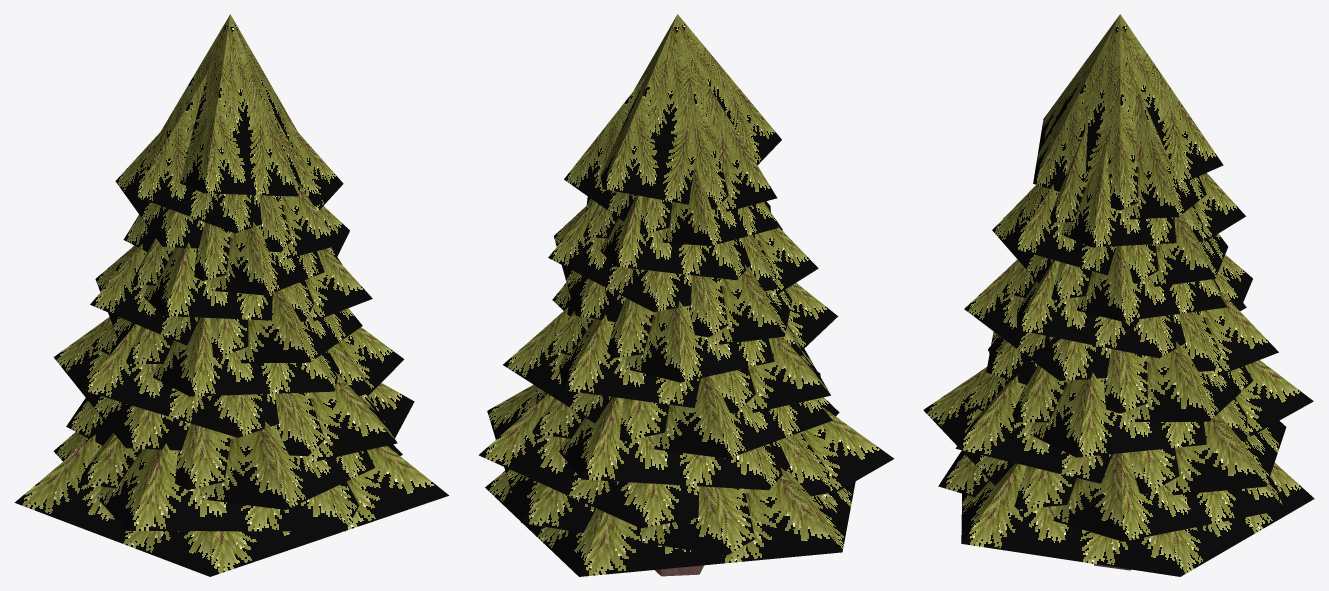
The model's file is tree.glb.
The picture shows the model from 3 angles, left to right: view 1: azimuth 30°, elevation 25°; view 2: azimuth 150°, elevation 25°; view 3: azimuth 270°, elevation 25°; orthographic projection.
Visible parts, largest first — view 1: wood; view 2: wood; view 3: wood.
Boxes of the visible parts, <box> form: wood: <box>14,14,448,576</box>; wood: <box>479,14,894,576</box>; wood: <box>923,14,1314,576</box>.
Size of the model in its own units: 6.71 by 9.25 by 6.04.
2 materials, 2 textured.
